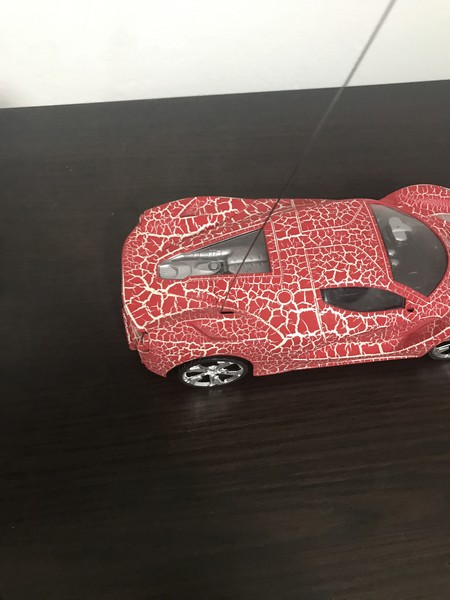RC: (119, 182, 450, 389)
